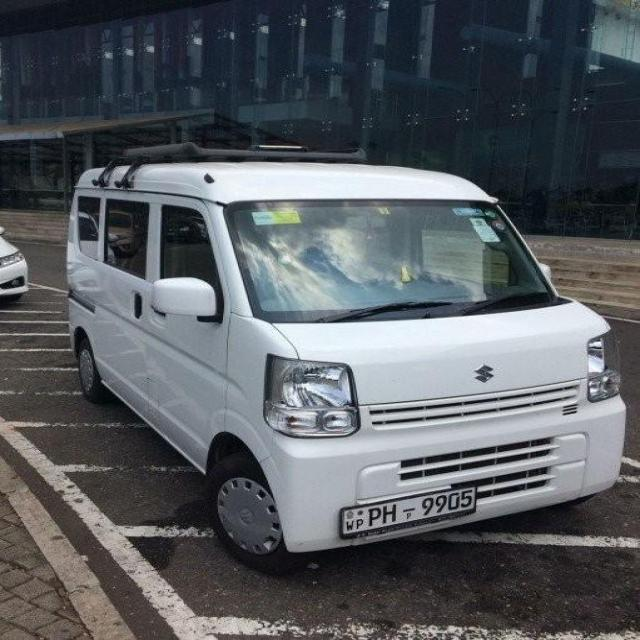license-plate: (334, 486, 481, 532)
